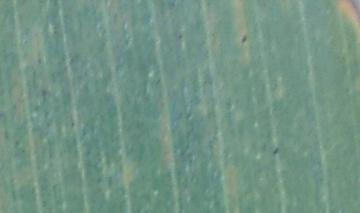tarspot: (271, 145, 282, 156), (240, 32, 248, 46), (35, 56, 44, 67), (176, 32, 184, 41), (69, 121, 76, 130)
